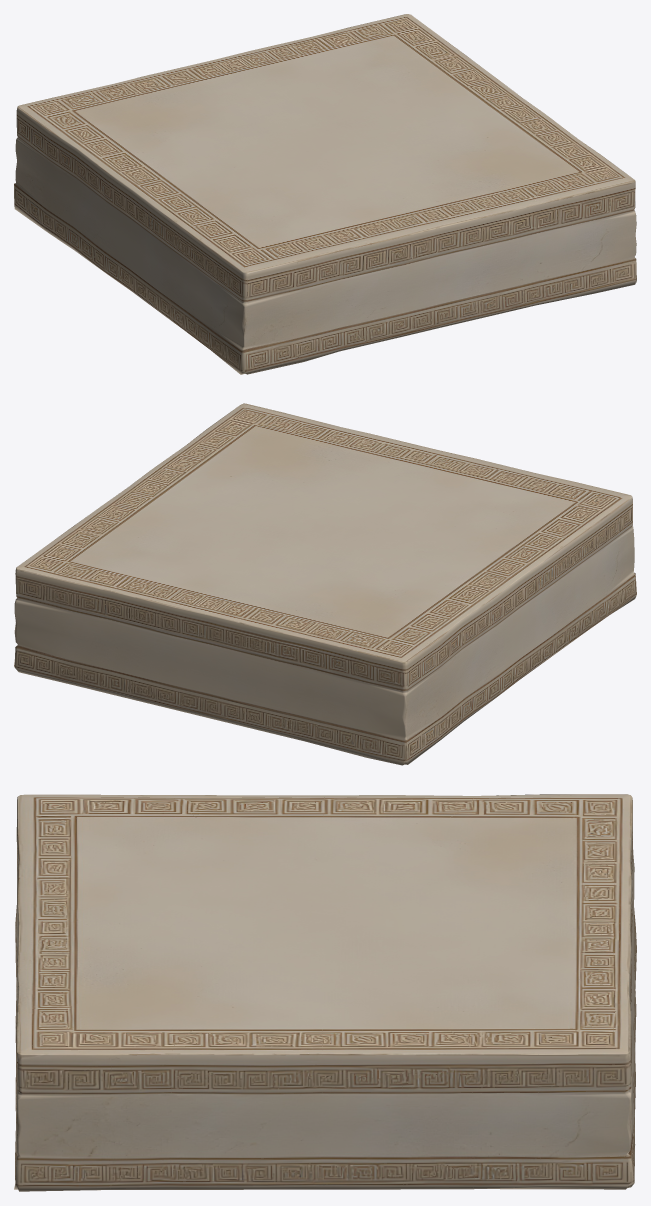
The model's file is tripo_convert_4bbe1cde-6311-4c64-9396-febbd2aa8959.fbx.
3 renders of one model, top to bottom at view 1: azimuth 30°, elevation 25°; view 2: azimuth 150°, elevation 25°; view 3: azimuth 270°, elevation 25°, orthographic. The views are drawn at different scales.
Visible parts, largest first — view 1: tripo_node_4bbe1cde; view 2: tripo_node_4bbe1cde; view 3: tripo_node_4bbe1cde.
Part boxes in pixels (<box>): tripo_node_4bbe1cde: <box>14,14,636,374</box>; tripo_node_4bbe1cde: <box>14,403,636,765</box>; tripo_node_4bbe1cde: <box>14,794,636,1191</box>.
Bounding box in the file's own units: 98.78 × 99.95 × 25.44.
1 material, 1 textured.
